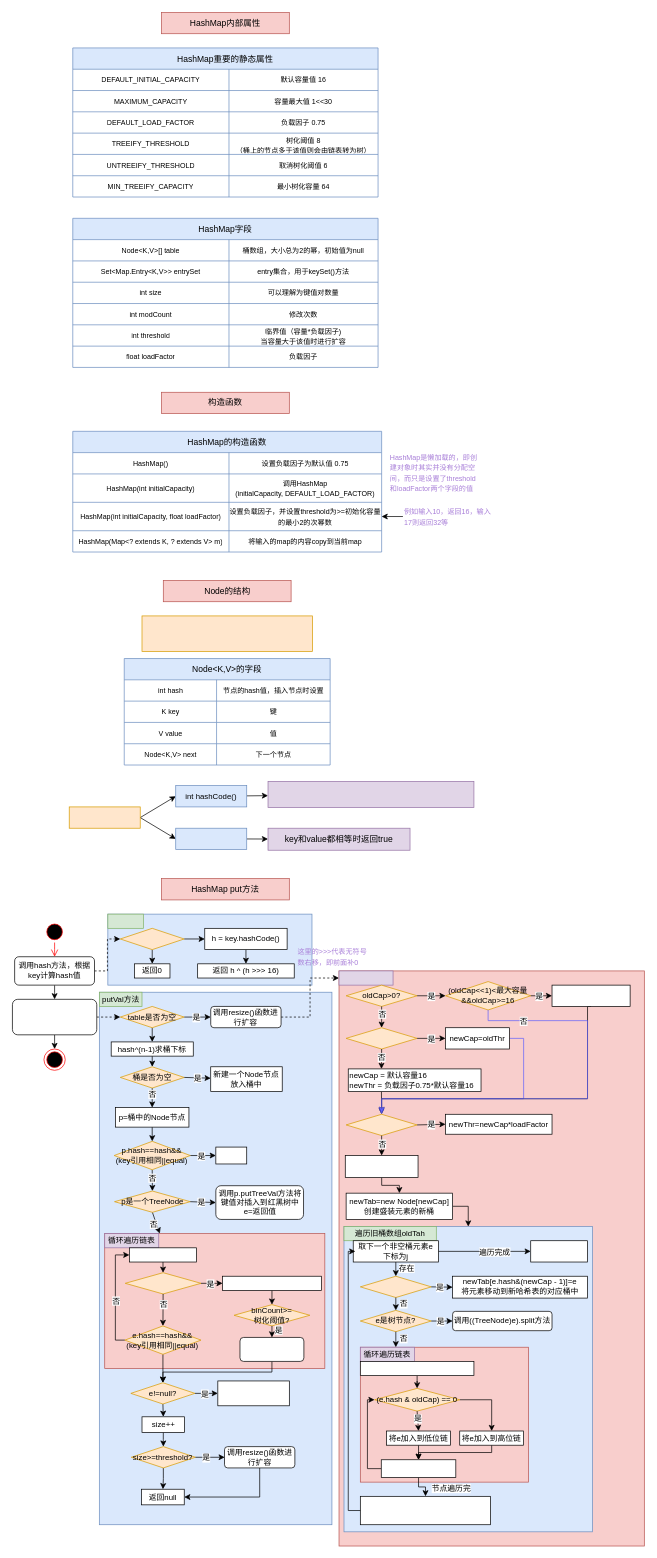
Image size: 657x1558. Some labels were removed from this diagram. Each missing label, with the centre of its shape:
"e = p" belongs at point (231, 1155).
"e.next==null? 桶中只有一个节点" belongs at point (395, 1287).
"e=p.next" belongs at point (163, 1254).
"e=链表的下一个节点" belongs at point (418, 1468).
"equals(Object o)" belongs at point (211, 839).
"hash方法" belongs at point (125, 920).
"key==null?" belongs at point (152, 939).
"newCap=oldCap<<1 newThr=oldThr<<1" belongs at point (590, 995).
"newThr未设置?" belongs at point (381, 1125).
"Node是HashMap中的内部类，实现了Map.Entry接口，即代表一个键值对对象，内部字段如下" belongs at point (226, 633).
"Objects.hashCode(key) ^ Objects.hashCode(value)，即用key和value的哈希值异或得到" belongs at point (370, 794).
"oldThr>0?" belongs at point (381, 1038).
"p.next=新建一个Node节点" belongs at point (271, 1283).
"resize函数" belongs at point (365, 977).
"threshold=newThr 设置扩容阈值" belongs at point (381, 1166).
"低位链放在newTab下标为j的桶中，高位链放在下标为j+oldCap的桶中" belongs at point (425, 1510).
"实现的重要方法" belongs at point (104, 817).
"维护高位链节点和低位链节点" belongs at point (417, 1368).
"节点为空null?" belongs at point (163, 1283).
"设置value e.value = value" belongs at point (253, 1393).
"调用putVal(hash(key), key, value, false, true)" belongs at point (54, 1017).
"调用treeifyBin函数对桶进行树化" belongs at point (271, 1349).
"返回newTab，即新的桶数组" belongs at point (559, 1251).
